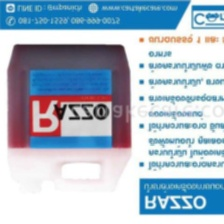cleaning_solution: (3, 39, 133, 193)
